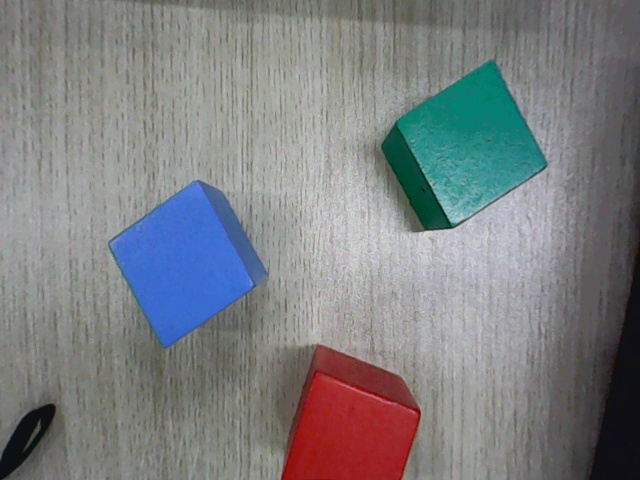upside of big cube: (396, 58, 549, 229), (107, 180, 255, 352), (282, 370, 420, 479)
